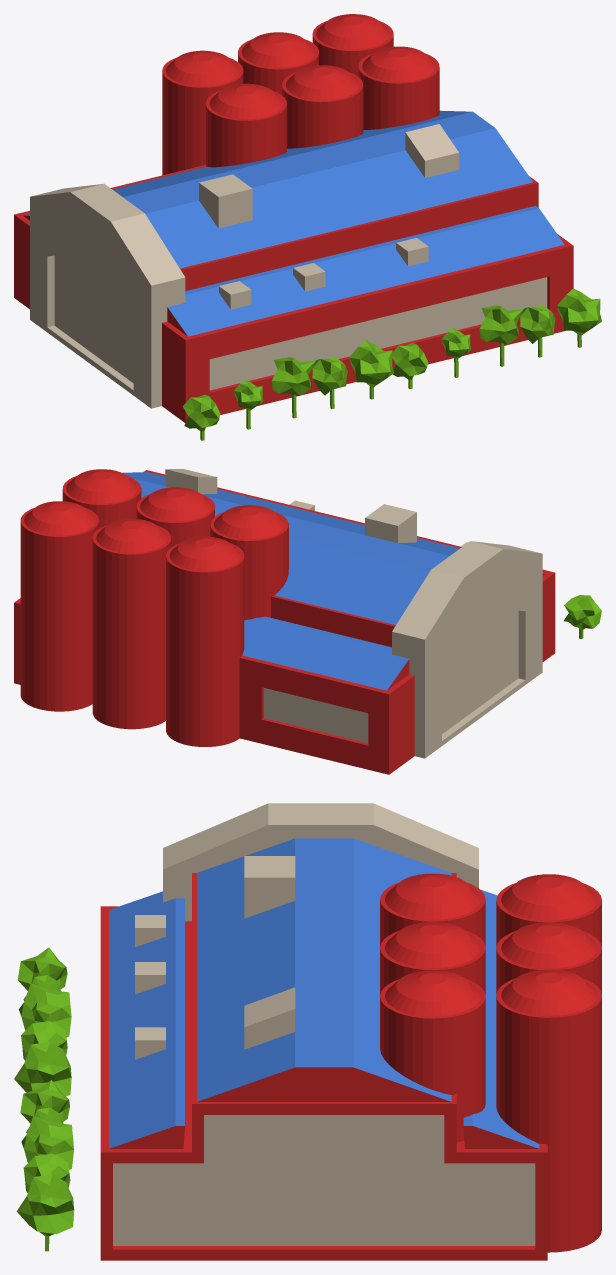
Rendered from bulding4.fbx.
3 renders of one model, top to bottom at view 1: azimuth 30°, elevation 25°; view 2: azimuth 150°, elevation 25°; view 3: azimuth 270°, elevation 25°, orthographic. The views are drawn at different scales.
Parts seen in each view (by area): view 1: food_factory; view 2: food_factory; view 3: food_factory.
Part boxes in pixels (x1=…): food_factory: x1=14, y1=14, x2=601, y2=440; food_factory: x1=14, y1=469, x2=601, y2=774; food_factory: x1=14, y1=803, x2=601, y2=1260.
Bounding box in the file's own units: 344 × 154 × 326.
